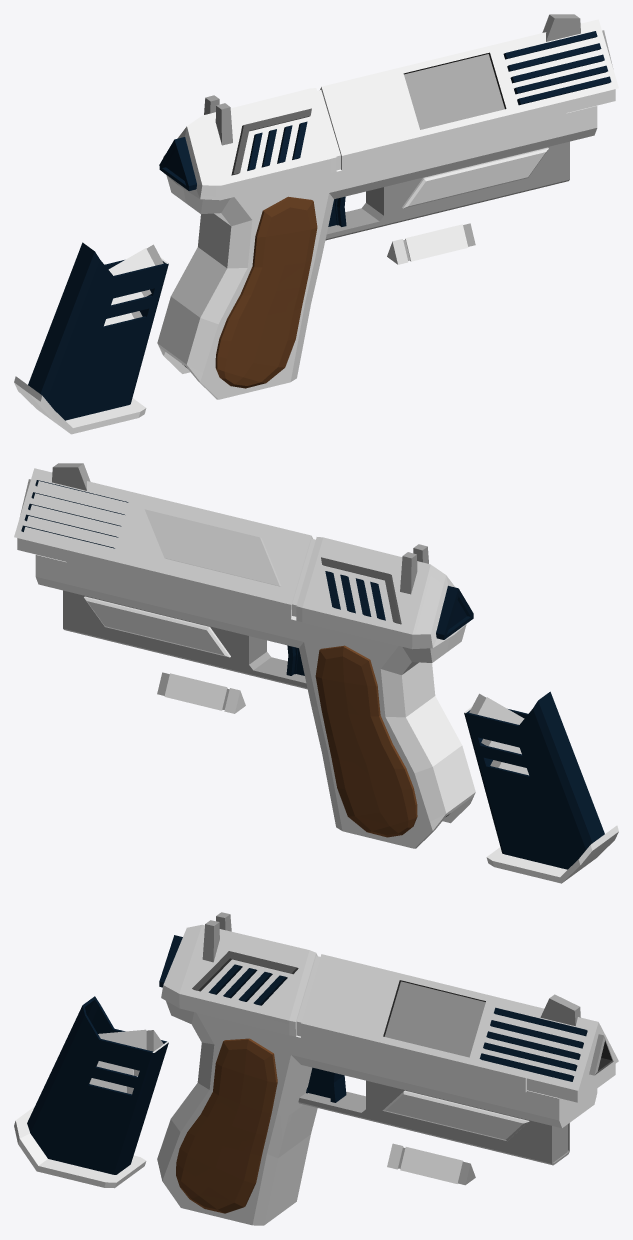
The model's file is Pistol.fbx.
3 renders of one model, top to bottom at view 1: azimuth 30°, elevation 25°; view 2: azimuth 150°, elevation 25°; view 3: azimuth 330°, elevation 25°, orthographic.
Parts seen in each view (by area): view 1: Pistol, Clip, Ammo; view 2: Pistol, Clip, Ammo; view 3: Pistol, Clip, Ammo.
Part boxes in pixels (bbox=[...]): Pistol: bbox=[157, 14, 618, 399]; Clip: bbox=[14, 242, 168, 434]; Ammo: bbox=[387, 223, 475, 264]; Pistol: bbox=[14, 463, 475, 848]; Clip: bbox=[464, 691, 618, 883]; Ammo: bbox=[157, 672, 245, 713]; Pistol: bbox=[157, 912, 618, 1225]; Clip: bbox=[14, 996, 168, 1188]; Ammo: bbox=[387, 1143, 475, 1185].
Size of the model in its own units: 243 by 114 by 32.32.
